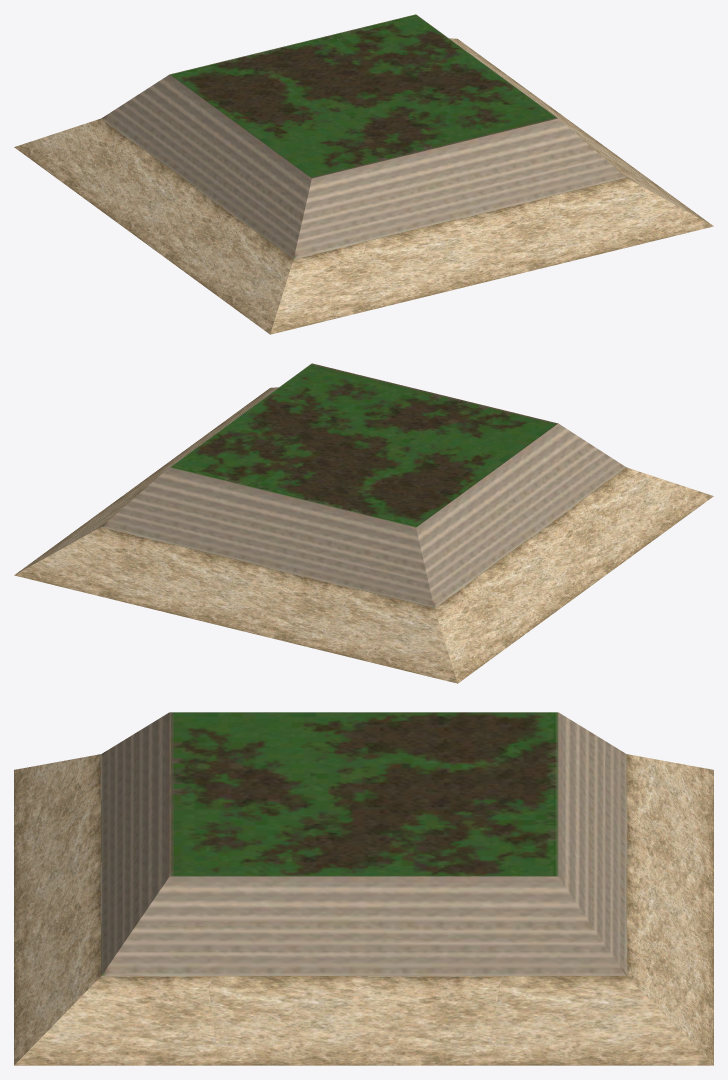
File: ply_nboo_garden_sml_s01_l2.fbx
3 views of the same model, one above another, from view 1: azimuth 30°, elevation 25°; view 2: azimuth 150°, elevation 25°; view 3: azimuth 270°, elevation 25° (orthographic). The views are drawn at different scales.
Visible parts, largest first — view 1: mesh_node; view 2: mesh_node; view 3: mesh_node.
Boxes of the visible parts, x1,y1,x2,y2 form: mesh_node: (14, 14, 713, 334); mesh_node: (14, 363, 713, 683); mesh_node: (14, 712, 713, 1065).
Size of the model in its own units: 18 by 3.5 by 18.
